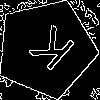K: (21, 23, 77, 80)
